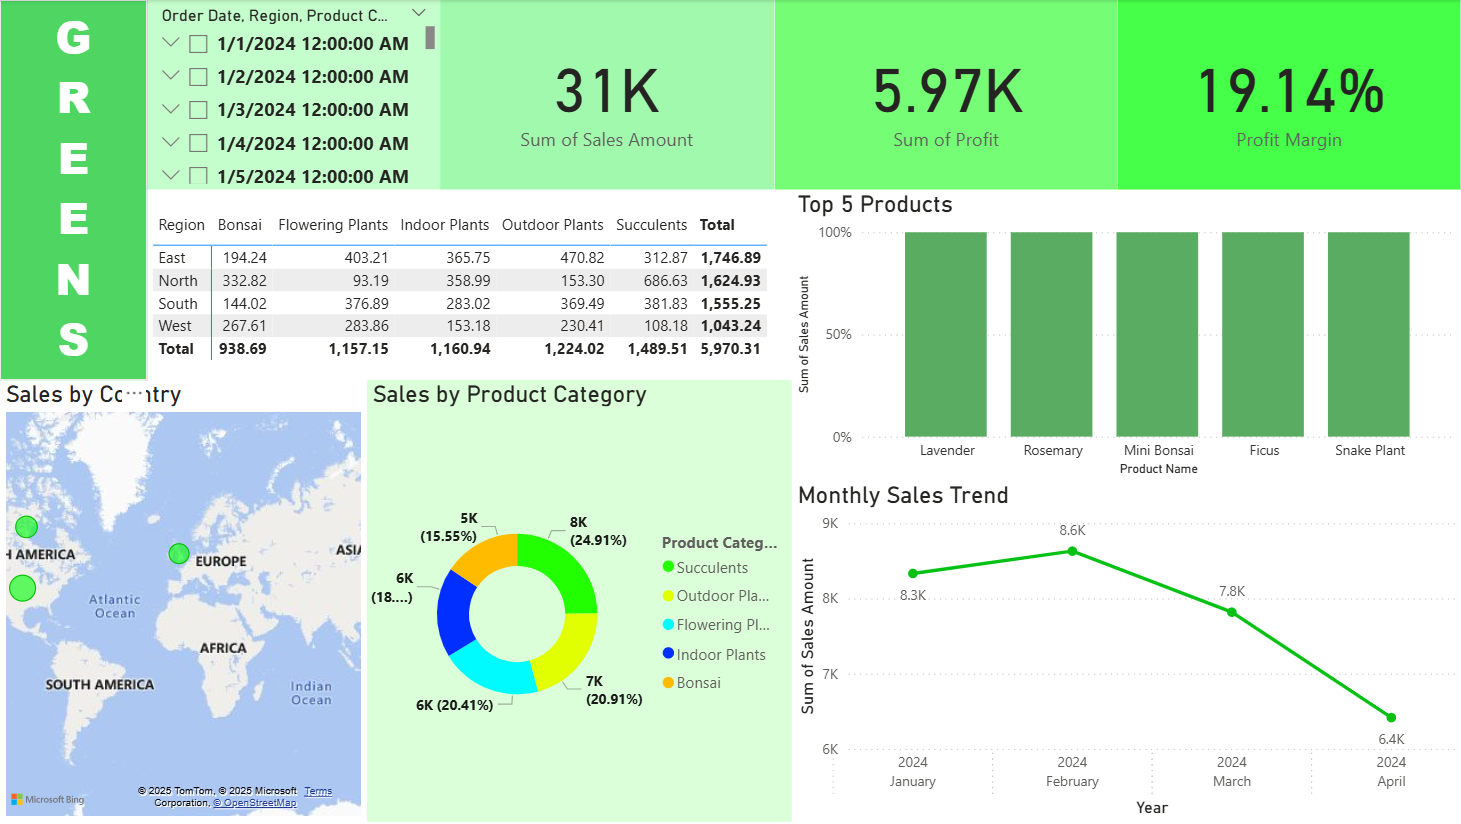

What the dashboard file says about the page in this screenshot:
{"tool":"powerbi","page":{"name":"Page 1","canvas":[1280,720],"ordinal":0},"visuals":[{"type":"card","fields":{"Values":["Sum(Sheet1.Sales Amount)"]},"box":[385.5,0,292.9,166.3],"z":0},{"type":"card","fields":{"Values":["Sum(Sheet1.Profit)"]},"box":[678.4,0,300.5,166.3],"z":1000},{"type":"card","fields":{"Values":["Sheet1.Profit Margin","select"]},"box":[978.9,0,300.5,166.3],"z":2000},{"type":"actionButton","box":[0,0,100,40],"z":3000},{"type":"map","title":"Sales by Country","fields":{"Category":["Sheet1.Country","Sheet1.City"],"Size":["Sum(Sheet1.Sales Amount)"]},"box":[0,332.6,321.3,387.4],"z":4000},{"type":"donutChart","title":"Sales by Product Category","fields":{"Category":["Sheet1.Product Category"],"Y":["Sum(Sheet1.Sales Amount)"]},"box":[321.3,332.6,372.3,387.4],"z":5000},{"type":"hundredPercentStackedColumnChart","title":"Top 5 Products","fields":{"Category":["Sheet1.Product Name"],"Y":["Sum(Sheet1.Sales Amount)"]},"box":[693.5,166.3,585.8,255.1],"z":6000},{"type":"lineChart","title":"Monthly Sales Trend","fields":{"Category":["Sheet1.Order Date.Variation.Date Hierarchy.Month","Sheet1.Order Date.Variation.Date Hierarchy.Year"],"Y":["Sum(Sheet1.Sales Amount)"]},"box":[693.5,421.4,585.8,298.6],"z":7000},{"type":"pivotTable","fields":{"Rows":["Sheet1.Region"],"Columns":["Sheet1.Product Category"],"Values":["Sum(Sheet1.Profit)"]},"box":[128.5,181.4,549.9,151.2],"z":8000},{"type":"slicer","fields":{"Values":["Sheet1.Order Date","Sheet1.Region","Sheet1.Product Category"]},"box":[128.5,0,257,166.3],"z":9000},{"type":"textbox","box":[0,0,128.5,332.6],"z":10000}]}

Visuals, with their boxes in screenshot pixels (x1, y1, x2, y2), scaled from the page's 1280x720 canvas onto the 1461x824 screenshot:
card - Sum(Sheet1.Sales Amount): box(440, 0, 774, 190)
card - Sum(Sheet1.Profit): box(774, 0, 1117, 190)
card - Sheet1.Profit Margin x select: box(1117, 0, 1460, 190)
actionButton: box(0, 0, 114, 46)
"Sales by Country" map: box(0, 381, 367, 823)
"Sales by Product Category" donutChart: box(367, 381, 792, 823)
"Top 5 Products" hundredPercentStackedColumnChart: box(792, 190, 1460, 482)
"Monthly Sales Trend" lineChart: box(792, 482, 1460, 823)
pivotTable - Sheet1.Region x Sheet1.Product Category: box(147, 208, 774, 381)
slicer - Sheet1.Order Date x Sheet1.Region: box(147, 0, 440, 190)
textbox: box(0, 0, 147, 381)
